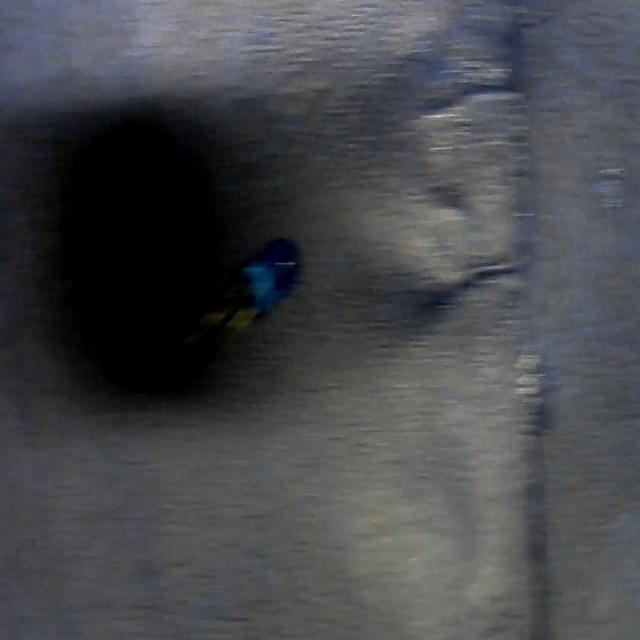LED: (178, 237, 304, 339)
